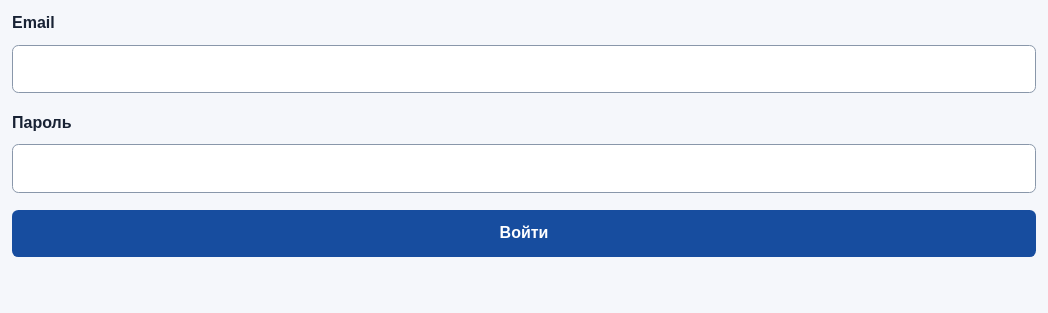
Test case: login sends credentials and shows the same error on failed authentication
The width and height of the screenshot is (1048, 313).
Type "user@example.com" into the field labelled "Email" at (524, 69), box [12, 45, 1036, 93]
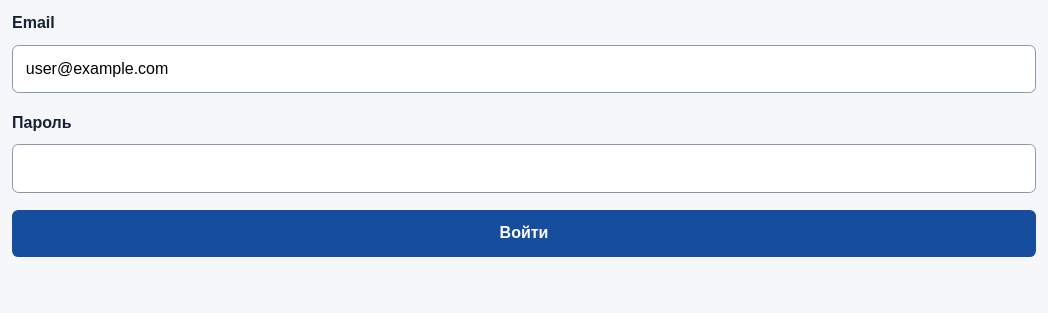
Type "wrong-password" into the password field labelled "Пароль" at (524, 168), box [12, 144, 1036, 193]
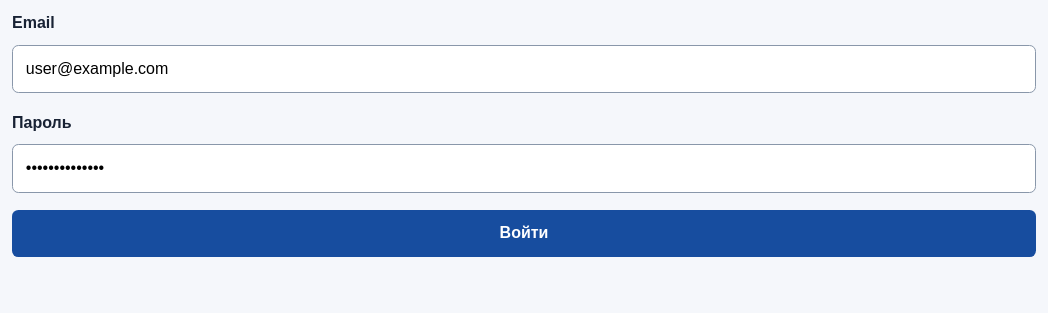
Click the button "Войти" at (524, 233), box [12, 210, 1036, 256]
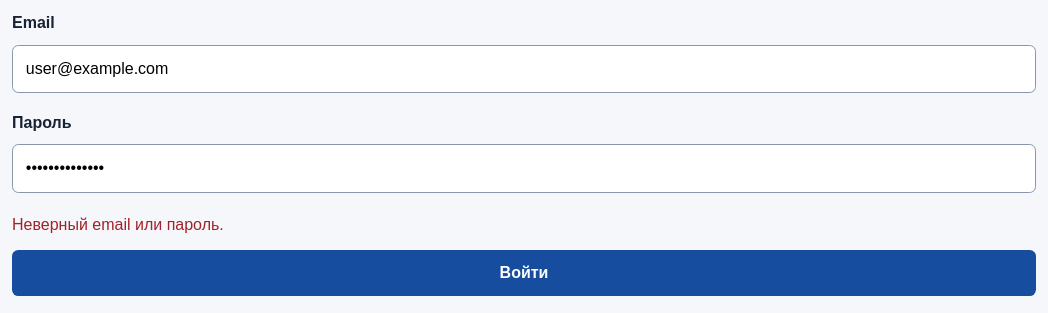
Expected: the message reads "Неверный email или пароль.", [12, 216, 224, 233]
